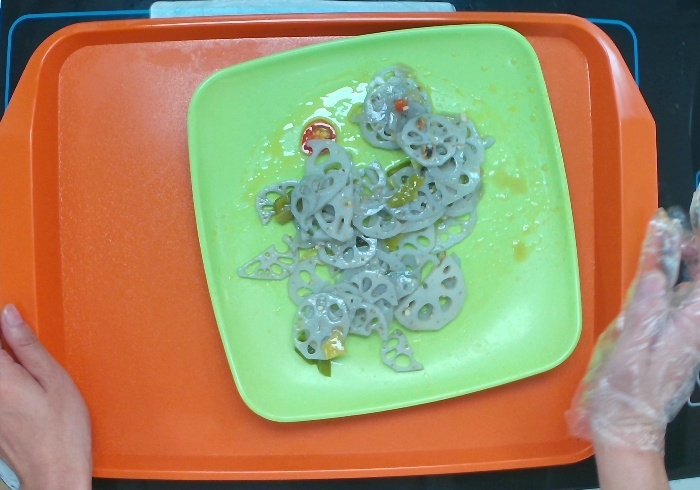ZNLD-Lv_Fang_Pan: (188, 22, 583, 424)
